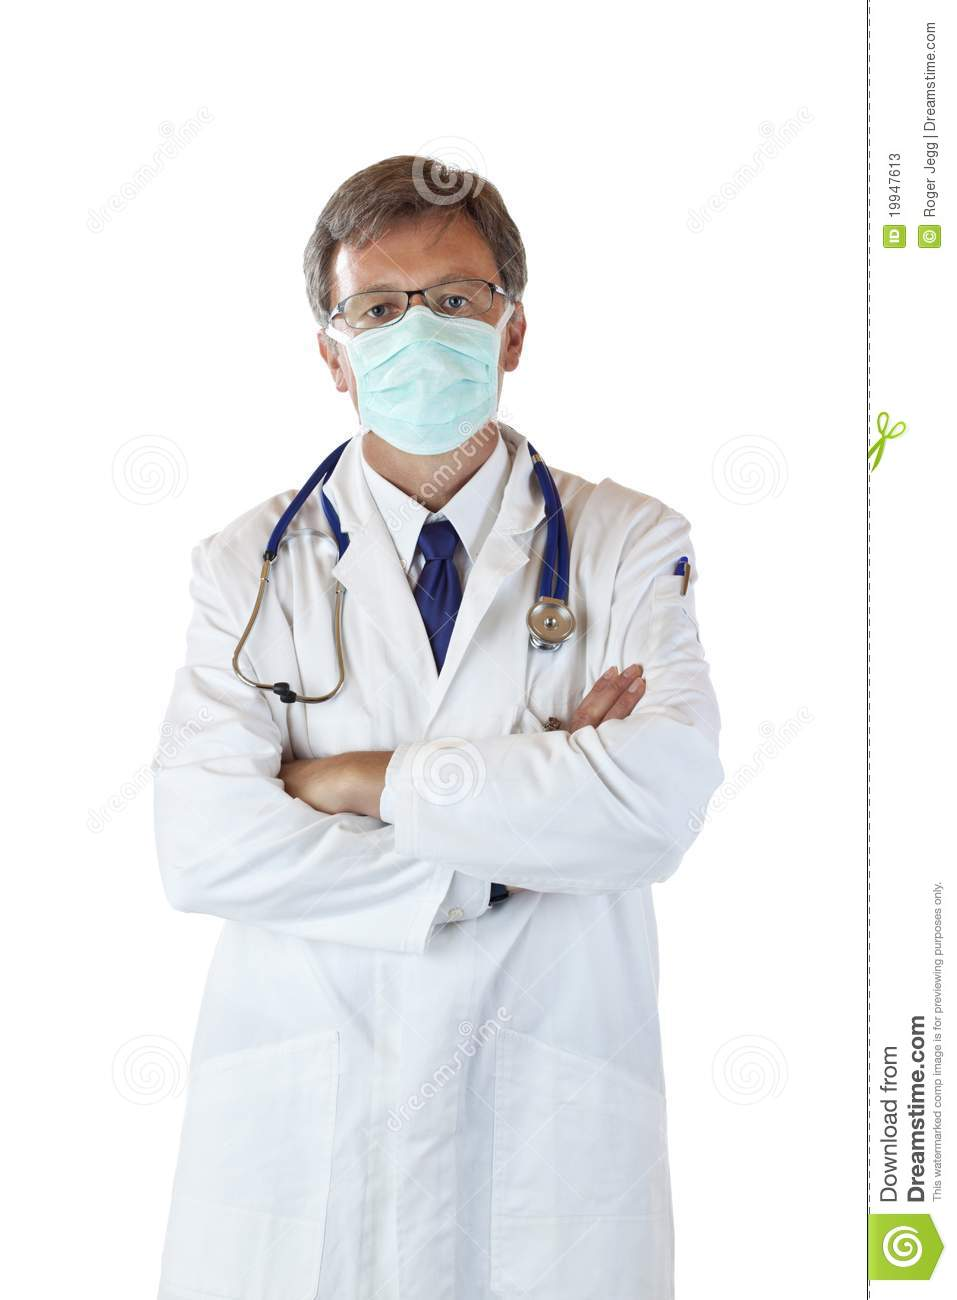mask: (350, 318, 498, 454)
